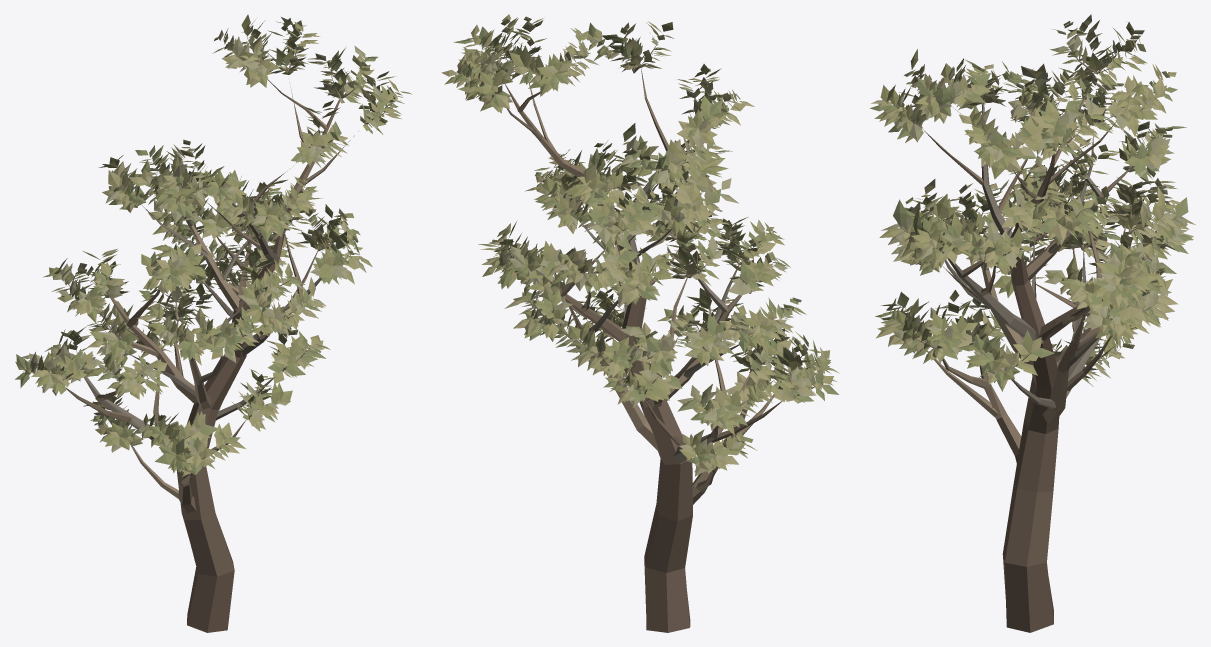
Rendered from curved-poplar.glb.
The picture shows the model from 3 angles, left to right: view 1: azimuth 30°, elevation 25°; view 2: azimuth 150°, elevation 25°; view 3: azimuth 270°, elevation 25°; orthographic projection. The views are drawn at different scales.
Bounding box in the file's own units: 2.3 × 3.4 × 1.57.
